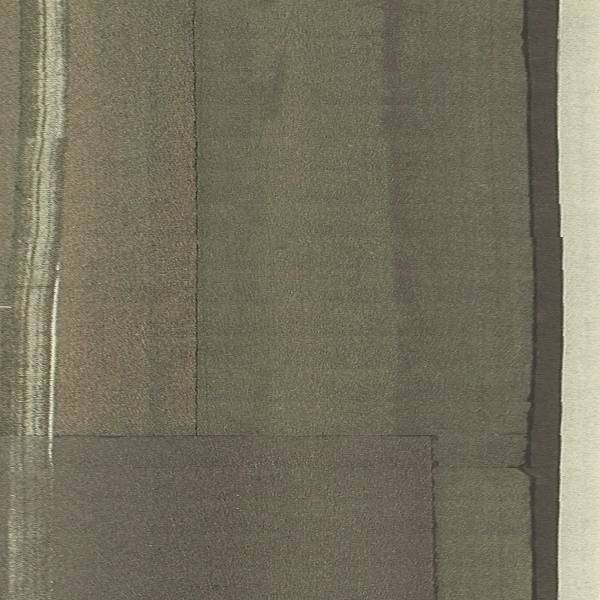road_damage: (65, 414, 546, 501)
